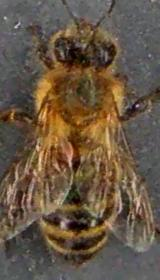varroa_mite: (44, 139, 80, 171)
